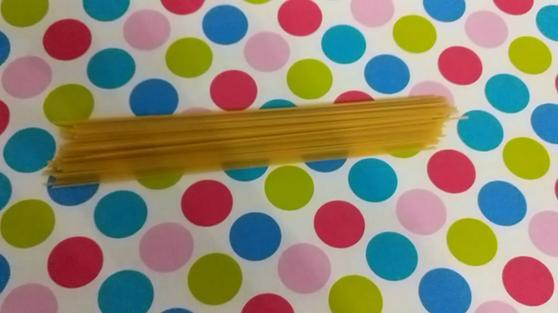spaghetti: (47, 90, 455, 183)
